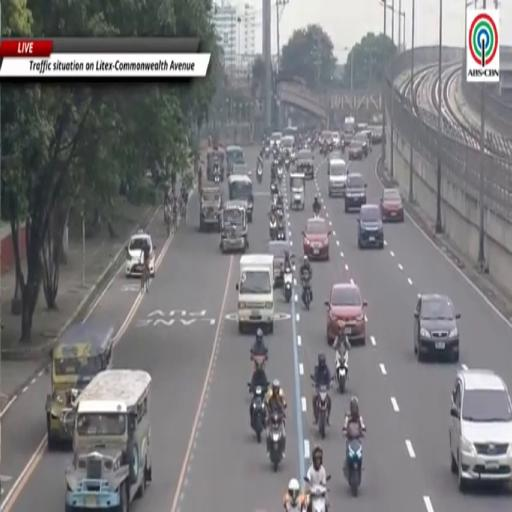car: (450, 370, 511, 491), (414, 294, 460, 362), (325, 283, 366, 345), (126, 230, 155, 277), (358, 204, 384, 249), (303, 218, 330, 260), (345, 172, 366, 213), (381, 188, 404, 221), (328, 158, 347, 197), (296, 149, 314, 179), (349, 132, 369, 157), (348, 139, 365, 159), (361, 130, 372, 152), (327, 151, 343, 162), (333, 132, 340, 148)
jeepney: (65, 370, 151, 511), (45, 324, 113, 450), (220, 200, 248, 252), (228, 174, 253, 222), (200, 186, 222, 231), (268, 242, 288, 287), (226, 146, 248, 177), (289, 172, 305, 210), (207, 149, 224, 181)
motorcycle: (345, 438, 362, 497), (268, 412, 283, 471), (251, 387, 266, 442), (316, 384, 328, 439), (335, 349, 348, 393), (307, 485, 327, 511), (283, 268, 292, 302), (302, 278, 311, 310), (251, 356, 267, 373), (213, 163, 220, 185), (270, 219, 277, 241), (256, 166, 263, 184), (277, 226, 285, 241), (284, 156, 291, 170), (313, 205, 320, 218), (321, 143, 328, 156), (277, 166, 282, 182), (273, 147, 278, 159), (215, 173, 220, 184), (265, 147, 270, 158), (341, 140, 345, 153)
